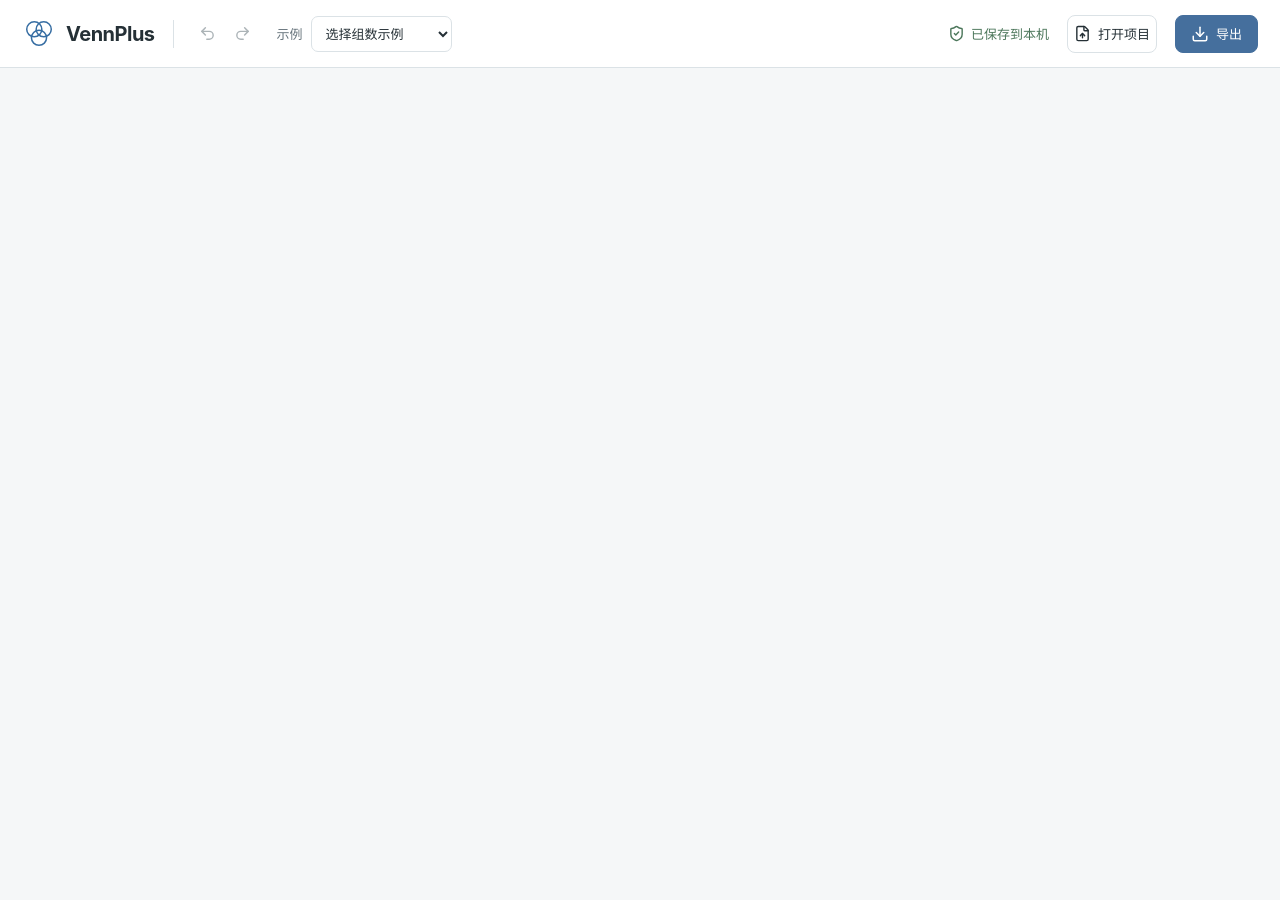
Test case: AppHeader export dialog › downloads only on confirmation and reports success
The image size is (1280, 900).
What coordinates should you click on to do the following:
click the button "导出"
I would click on:
 (1216, 34)
Its box is x1=1175 y1=14 x2=1258 y2=52.
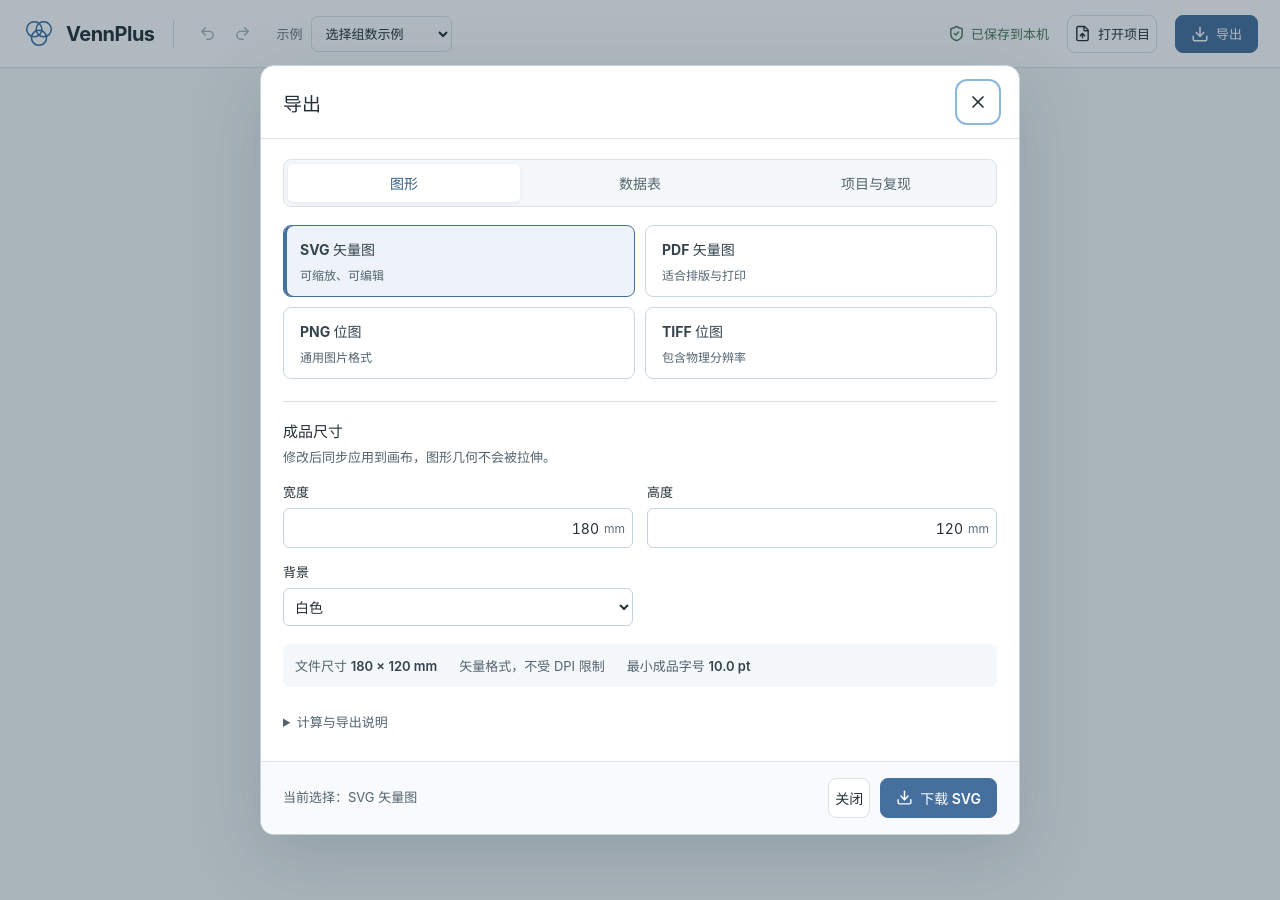
Result: the dialog "导出" is shown at x1=260 y1=65 x2=1020 y2=835
What coordinates should you click on to do the following:
click the button "下载 SVG"
I would click on:
 (939, 798)
Its box is x1=880 y1=778 x2=997 y2=818.
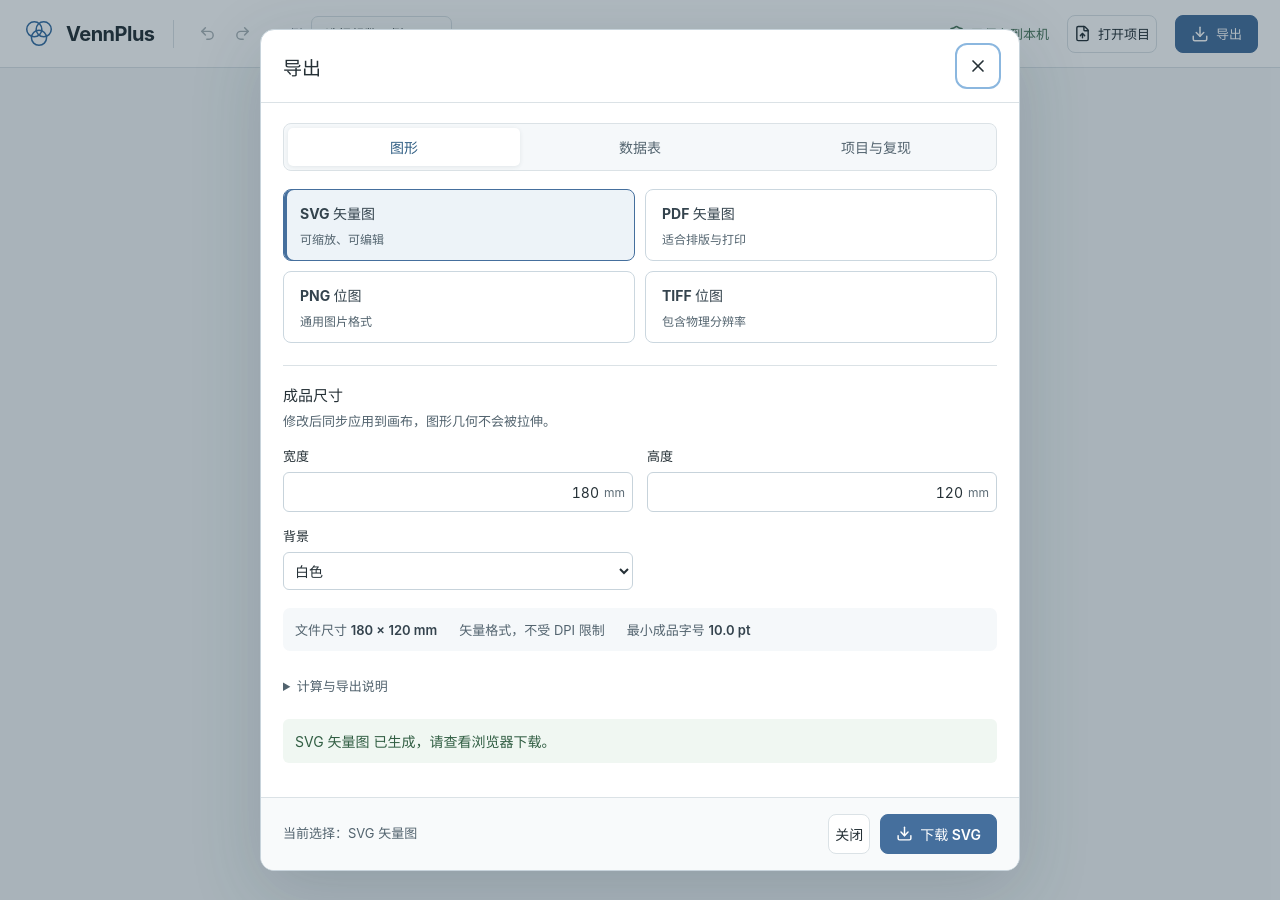
Result: the text "SVG 矢量图 已生成，请查看浏览器下载。" is shown at x1=283 y1=719 x2=997 y2=763
